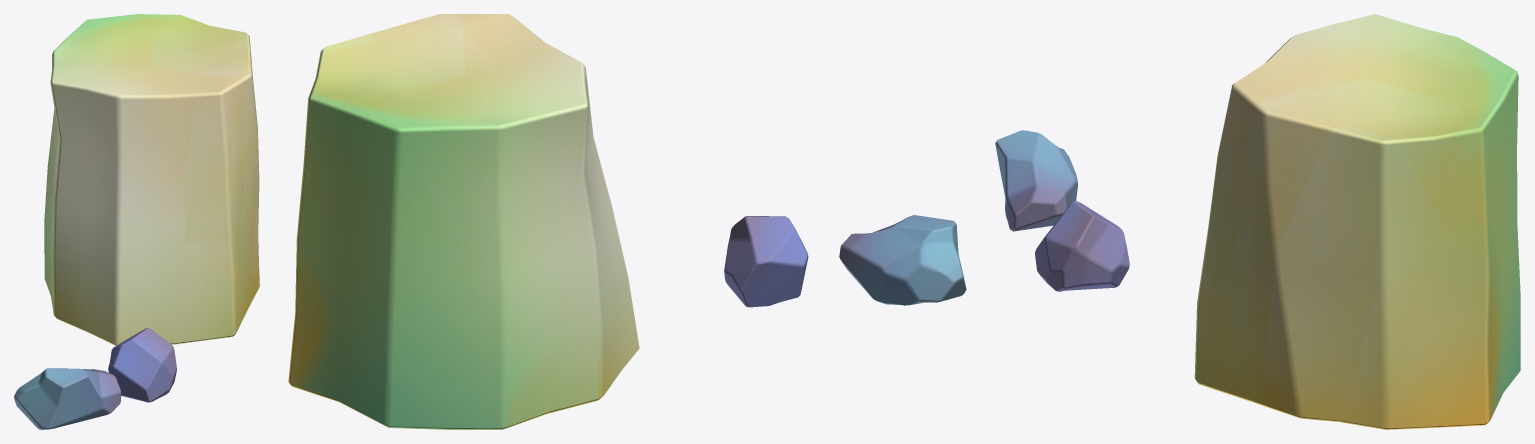
File: Game_Rock.fbx
3 views of the same model, side by side, from view 1: azimuth 30°, elevation 25°; view 2: azimuth 150°, elevation 25°; view 3: azimuth 270°, elevation 25° (orthographic). The views are drawn at different scales.
Visible parts, largest first — view 1: Game_Rock_Big, Game_Rock_1, Game_Rock_2; view 2: Game_Rock_Big, Game_Rock_1, Game_Rock_2; view 3: Game_Rock_Big, Game_Rock_1, Game_Rock_2.
Part boxes in pixels (left/top/right/bottom): Game_Rock_Big: left=44, top=14, right=259, bottom=345; Game_Rock_1: left=14, top=368, right=121, bottom=429; Game_Rock_2: left=108, top=328, right=176, bottom=402; Game_Rock_Big: left=288, top=14, right=639, bottom=429; Game_Rock_1: left=839, top=215, right=966, bottom=305; Game_Rock_2: left=724, top=216, right=808, bottom=307; Game_Rock_Big: left=1194, top=14, right=1520, bottom=429; Game_Rock_1: left=995, top=130, right=1077, bottom=231; Game_Rock_2: left=1035, top=201, right=1129, bottom=291.
Size of the model in its own units: 1485 by 925 by 1454.
